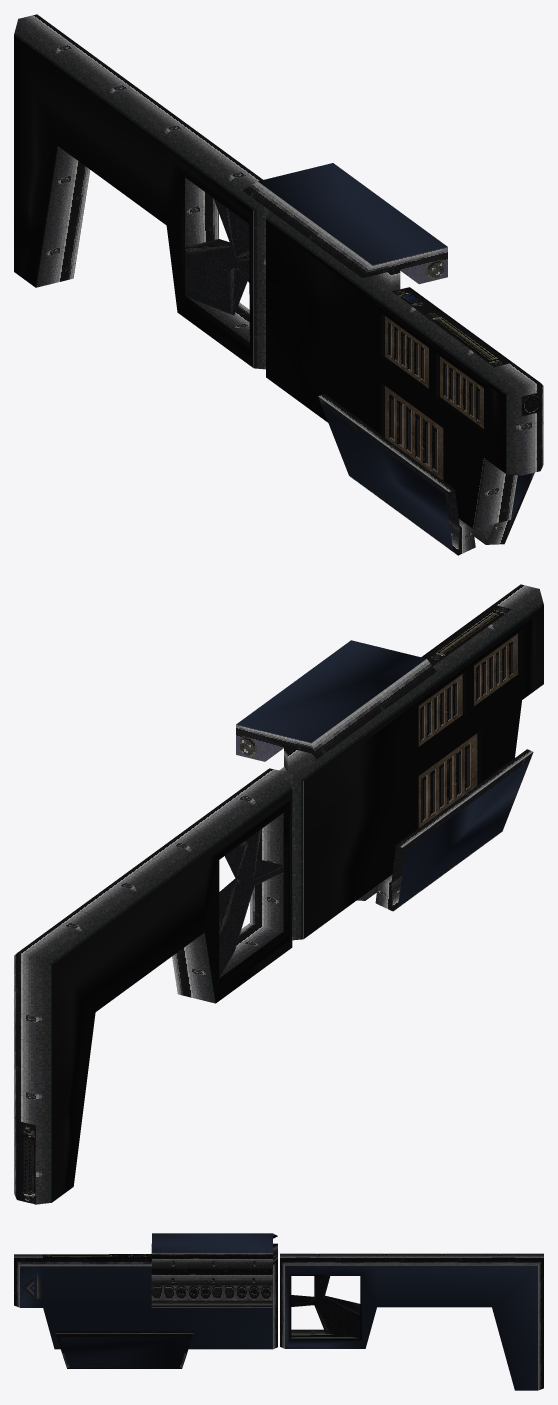
The model's file is 0d-laptop-gun-fp.glb.
3 views of the same model, one above another, from view 1: azimuth 30°, elevation 25°; view 2: azimuth 150°, elevation 25°; view 3: azimuth 270°, elevation 25° (orthographic). The views are drawn at different scales.
Visible parts, largest first — view 1: gun; view 2: gun; view 3: gun.
Part boxes in pixels (box(x1,y1,x2,y2)): gun: box(14, 14, 543, 555); gun: box(14, 584, 543, 1204); gun: box(14, 1233, 543, 1390).
Bounding box in the file's own units: 86.48 × 252 × 832.
12 materials, 12 textured.
